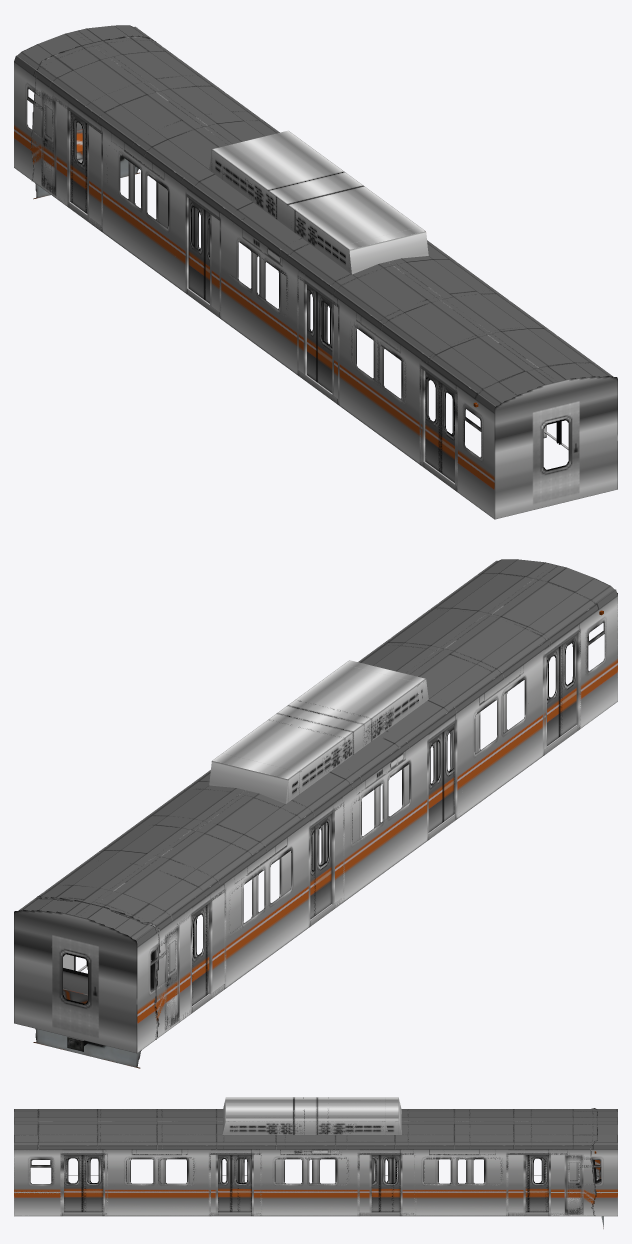
3 renders of one model, top to bottom at view 1: azimuth 30°, elevation 25°; view 2: azimuth 150°, elevation 25°; view 3: azimuth 270°, elevation 25°, orthographic. The views are drawn at different scales.
Parts seen in each view (by area): view 1: cab-shell-0, trailer-shell-5, cab-left-4, trailer-left-7, cab-left-2, trailer-left-9; view 2: trailer-shell-5, cab-shell-0, cab-left-4, trailer-left-7, cab-left-2, trailer-left-9; view 3: cab-shell-0, trailer-shell-5, cab-right-1, trailer-right-8, cab-right-3, trailer-right-6.
Part boxes in pixels (x1,y1,x2,y2): cab-shell-0: [29, 35, 617, 519]; trailer-shell-5: [14, 25, 610, 517]; cab-left-4: [70, 112, 441, 472]; trailer-left-7: [72, 114, 453, 475]; cab-left-2: [86, 124, 454, 482]; trailer-left-9: [70, 112, 439, 471]; trailer-shell-5: [14, 559, 617, 1053]; cab-shell-0: [33, 559, 617, 1068]; cab-left-4: [192, 655, 561, 1005]; trailer-left-7: [193, 642, 574, 1003]; cab-left-2: [206, 634, 576, 994]; trailer-left-9: [312, 647, 559, 916]; cab-shell-0: [14, 1097, 603, 1228]; trailer-shell-5: [14, 1097, 617, 1216]; cab-right-1: [82, 1155, 548, 1212]; trailer-right-8: [64, 1155, 546, 1212]; cab-right-3: [64, 1155, 528, 1212]; trailer-right-6: [85, 1155, 548, 1212].
Bounding box in the file's own units: 3.02 × 3.62 × 19.
1 material, 1 textured.
